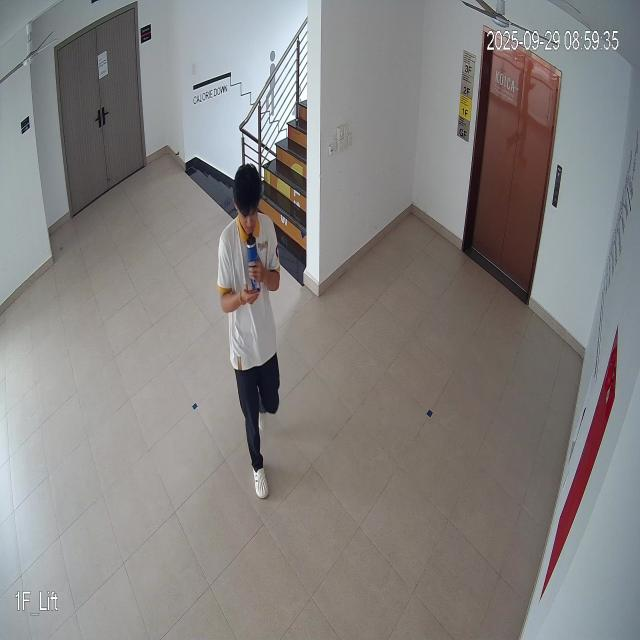face: (231, 168, 264, 245)
